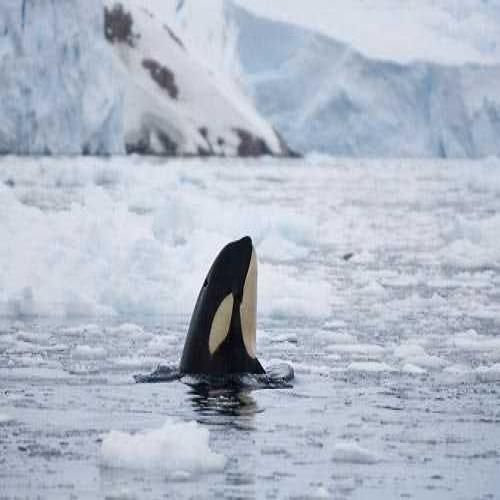killer_whale-endangered: (132, 231, 298, 393)
